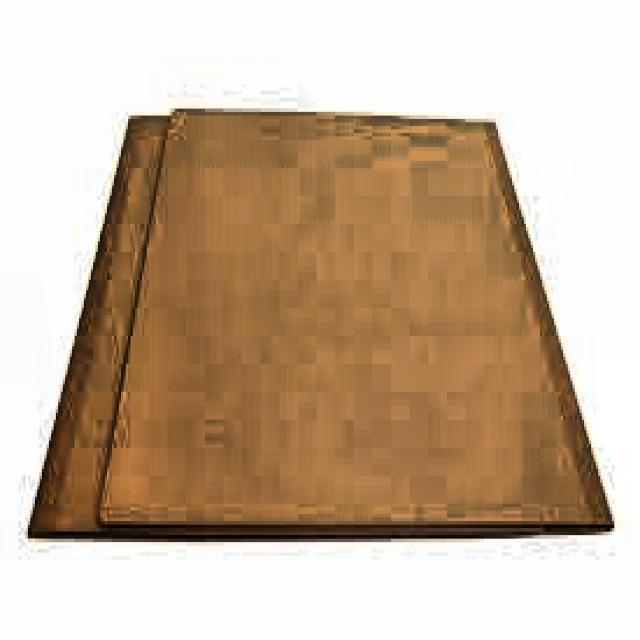cardboard: (28, 104, 614, 538)
